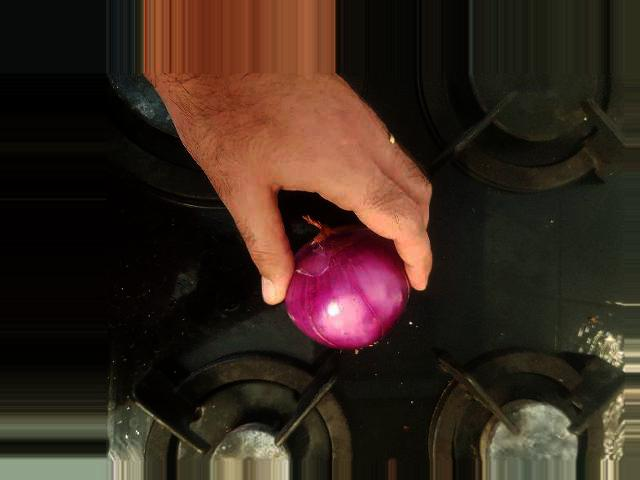onion: (397, 288, 514, 413)
